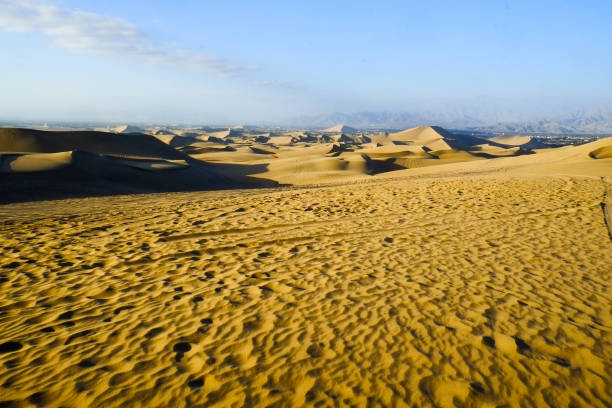human_footprint: (512, 332, 578, 378), (170, 336, 198, 364), (42, 318, 80, 338), (192, 306, 216, 333), (74, 356, 108, 374), (150, 316, 168, 348), (262, 272, 284, 296), (175, 288, 200, 308), (199, 258, 215, 288), (380, 232, 403, 252), (103, 308, 138, 317), (291, 240, 314, 252), (229, 240, 250, 252), (195, 233, 214, 246), (216, 279, 226, 301)
